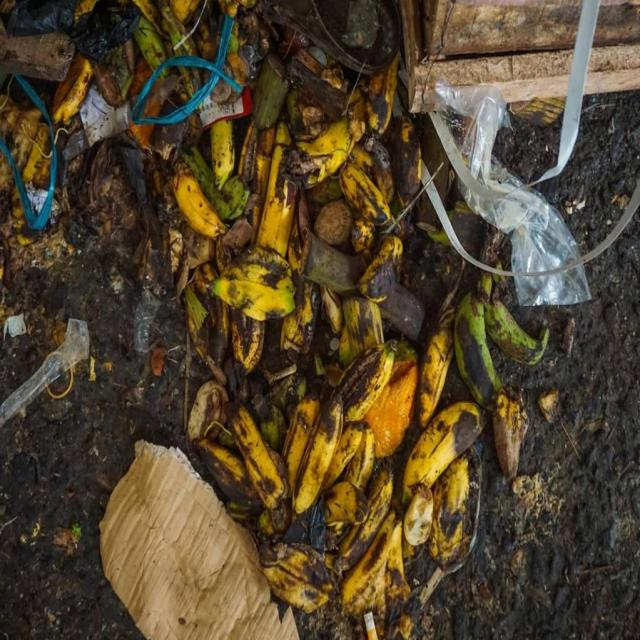Wet: (26, 5, 549, 639)
